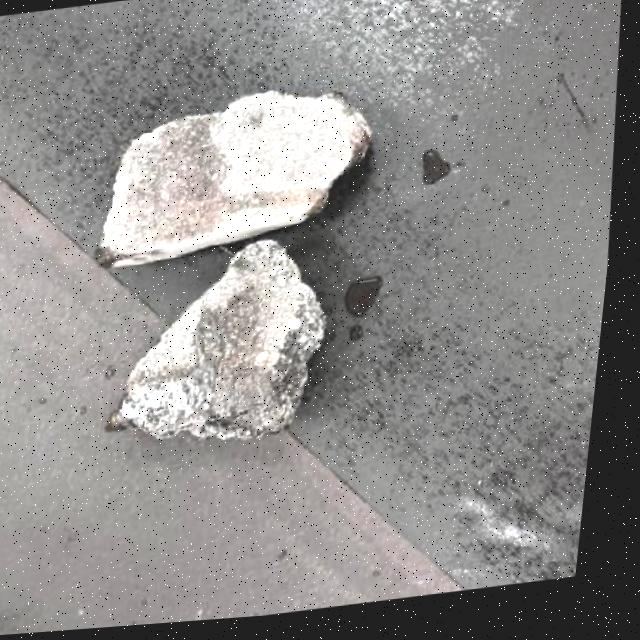Road Debris: (117, 303, 306, 448), (103, 110, 236, 258), (222, 181, 331, 226)
